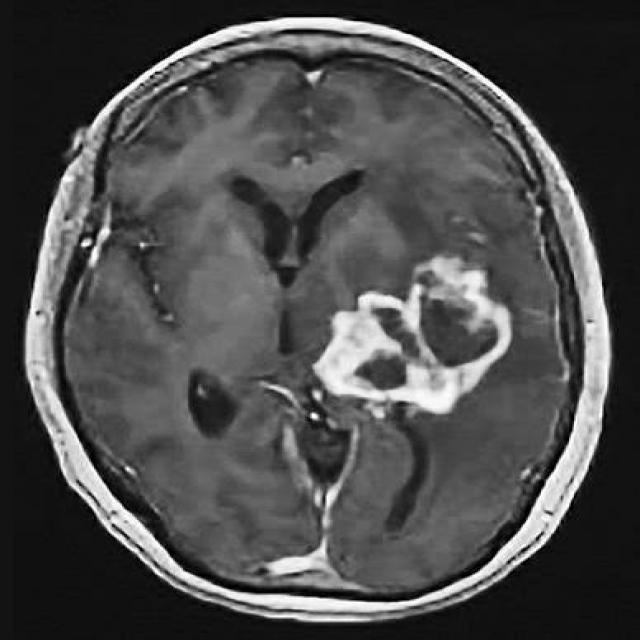tumor: (310, 261, 510, 421)
